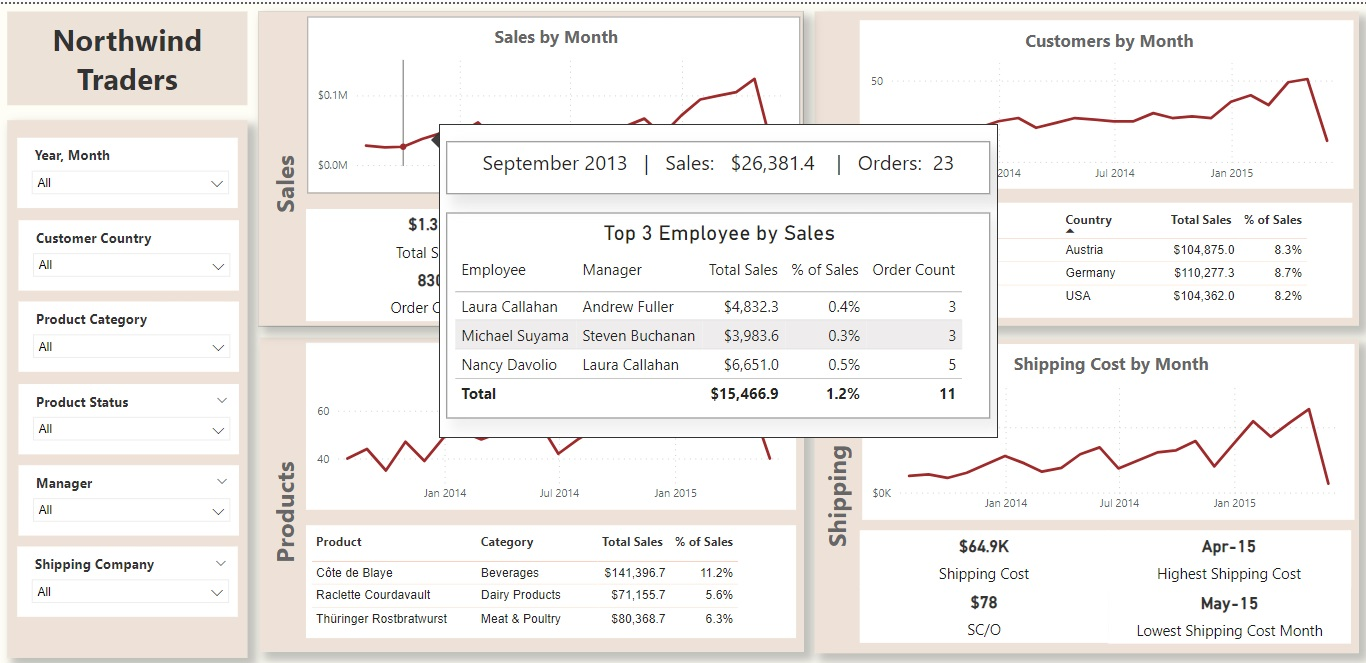

The dashboard page shown, as its layout file describes it:
{"tool":"powerbi","page":{"name":"Northwind Traders Dashboard","canvas":[1500,720],"ordinal":0},"visuals":[{"type":"group","id":"g1","title":"Group 1","box":[12.3,127,262.1,587],"z":0},{"type":"shape","box":[12.3,127,262.1,587],"z":0,"group":"g1"},{"type":"shape","box":[893.5,365.5,594.1,343.5],"z":0,"group":"g5"},{"type":"shape","box":[287.3,8.6,594.1,343.5],"z":1000,"group":"g4"},{"type":"shape","box":[893.6,8.6,594.1,343.5],"z":1000,"group":"g2"},{"type":"shape","box":[12.3,8.2,262.1,102.4],"z":2000},{"type":"lineChart","title":"Shipping Cost by Month","fields":{"Category":["Dates.MonthYear"],"Y":["MeasuresTable.Total Shipping Cost"]},"box":[946.1,370.4,537.9,191.9],"z":2000,"group":"g5"},{"type":"lineChart","title":"Sales by Month","fields":{"Y":["MeasuresTable.total_sales"],"Category":["Dates.MonthYear"]},"box":[339.9,14.7,537.9,191.9],"z":3000,"group":"g4"},{"type":"shape","box":[886.8,370.6,59.7,331.7],"z":3000,"group":"g5"},{"type":"shape","box":[888.7,58.7,57.3,293.5],"z":4000},{"type":"tableEx","fields":{"Values":["DimCustomers.Customer","DimCustomers.Country","MeasuresTable.Total Sales","MeasuresTable.% of Total Sales"]},"box":[946.1,217.1,535.1,125.6],"z":5000,"group":"g2"},{"type":"lineChart","title":"Customers by Month","fields":{"Category":["Dates.MonthYear"],"Y":["MeasuresTable.total_customers"]},"box":[943.3,17.8,539.2,184.3],"z":6000,"group":"g2"},{"type":"card","title":"Sales","fields":{"Values":["MeasuresTable.total_sales"]},"box":[338.6,223.9,270.3,61.4],"z":6000,"group":"g4"},{"type":"slicer","title":"Shipper Slicer","fields":{"Values":["FACT_orders.ShippersCompany"]},"box":[23.2,592.9,240.8,77],"z":6000,"group":"g1"},{"type":"shape","box":[288.1,364.1,594,342.8],"z":7000,"group":"g3"},{"type":"card","title":"Orders","fields":{"Values":["MeasuresTable.total_orders"]},"box":[338.6,284,273,62.8],"z":8000,"group":"g4"},{"type":"shape","box":[286,400.3,57.3,307.2],"z":8000,"group":"g3"},{"type":"slicer","title":"Status Slicer","fields":{"Values":["DimProducts.status"]},"box":[24.5,414.4,240.8,77],"z":8000,"group":"g1"},{"type":"shape","box":[293.5,46.5,42.3,300.3],"z":9000,"group":"g4"},{"type":"slicer","title":"Category Slicer","fields":{"Values":["Dimproducts.categoryName"]},"box":[24.5,325.2,240.8,77],"z":9000,"group":"g1"},{"type":"tableEx","fields":{"Values":["DimProducts.Product Name","DimProducts.Category","MeasuresTable.Total Sales","MeasuresTable.% of Total Sales"]},"box":[339.2,568.3,535.1,122.9],"z":9000,"group":"g3"},{"type":"card","title":"Highest sales Month","fields":{"Values":["MeasuresTable.Highest Sales Month"]},"box":[607.5,223.9,267.6,61.4],"z":10000,"group":"g4"},{"type":"lineChart","title":"Products by Month","fields":{"Category":["Dates.MonthYear"],"Y":["MeasuresTable.Total Produucts"]},"box":[338.6,370,535.4,182.1],"z":10000,"group":"g3"},{"type":"slicer","title":"Manager Slicer","fields":{"Values":["DimEmployees.Manager"]},"box":[24.5,503.7,240.8,77],"z":10000,"group":"g1"},{"type":"slicer","title":"Country Slicer","fields":{"Values":["DimCustomers.country"]},"box":[24.5,236,240.8,77],"z":11000,"group":"g1"},{"type":"card","title":"Lowest sales Month","fields":{"Values":["MeasuresTable.Lowest Sales Month"]},"box":[610.2,285.4,264.8,62.8],"z":11000,"group":"g4"},{"type":"card","title":"Shipping Cost","fields":{"Values":["MeasuresTable.Total Shipping Cost"]},"box":[943.3,574.7,271.7,62.8],"z":11000,"group":"g5"},{"type":"group","id":"g2","title":"Group 3","box":[893.6,8.6,594.1,343.5],"z":12000},{"type":"slicer","title":"Year Slicer","fields":{"Values":["Dates.Date Hierarchy.Year","Dates.Date Hierarchy.YearMonth"]},"box":[23.2,146.7,240.8,77],"z":12000,"group":"g1"},{"type":"card","title":"Shipping Cost/ Order","fields":{"Values":["MeasuresTable.SC/O"]},"box":[943.3,636.1,271.7,61.4],"z":12000,"group":"g5"},{"type":"group","id":"g3","title":"Group 2","box":[286,364.1,596.1,343.4],"z":12001},{"type":"group","id":"g4","title":"Group 4","box":[287.3,8.6,594.1,343.5],"z":12002},{"type":"card","title":"Highest Shipping Cost","fields":{"Values":["MeasuresTable.Highest Shipping Cost"]},"box":[1213.6,574.7,266.2,62.8],"z":13000,"group":"g5"},{"type":"card","title":"Lowest Shipping Cost","fields":{"Values":["MeasuresTable.Lowest Shipping Cost Month"]},"box":[1214.9,636.1,264.8,62.8],"z":14000,"group":"g5"},{"type":"group","id":"g5","title":"Group 5","box":[886.8,365.5,600.8,343.5],"z":14001}]}

Visuals, with their boxes in screenshot pixels (x1, y1, x2, y2), scaled from the page's 1500x720 canvas onto the 1366x663 screenshot:
"Group 1" group: locate(11, 117, 250, 657)
shape: locate(11, 117, 250, 657)
shape: locate(814, 337, 1355, 653)
shape: locate(262, 8, 803, 324)
shape: locate(814, 8, 1355, 324)
shape: locate(11, 8, 250, 102)
"Shipping Cost by Month" lineChart: locate(862, 341, 1351, 518)
"Sales by Month" lineChart: locate(310, 14, 799, 190)
shape: locate(808, 341, 862, 647)
shape: locate(809, 54, 861, 324)
tableEx - DimCustomers.Customer x DimCustomers.Country: locate(862, 200, 1349, 316)
"Customers by Month" lineChart: locate(859, 16, 1350, 186)
"Sales" card: locate(308, 206, 555, 263)
"Shipper Slicer" slicer: locate(21, 546, 240, 617)
shape: locate(262, 335, 803, 651)
"Orders" card: locate(308, 262, 557, 319)
shape: locate(260, 369, 313, 651)
"Status Slicer" slicer: locate(22, 382, 242, 452)
shape: locate(267, 43, 306, 319)
"Category Slicer" slicer: locate(22, 299, 242, 370)
tableEx - DimProducts.Product Name x DimProducts.Category: locate(309, 523, 796, 636)
"Highest sales Month" card: locate(553, 206, 797, 263)
"Products by Month" lineChart: locate(308, 341, 796, 508)
"Manager Slicer" slicer: locate(22, 464, 242, 535)
"Country Slicer" slicer: locate(22, 217, 242, 288)
"Lowest sales Month" card: locate(556, 263, 797, 321)
"Shipping Cost" card: locate(859, 529, 1106, 587)
"Group 3" group: locate(814, 8, 1355, 324)
"Year Slicer" slicer: locate(21, 135, 240, 206)
"Shipping Cost/ Order" card: locate(859, 586, 1106, 642)
"Group 2" group: locate(260, 335, 803, 651)
"Group 4" group: locate(262, 8, 803, 324)
"Highest Shipping Cost" card: locate(1105, 529, 1348, 587)
"Lowest Shipping Cost" card: locate(1106, 586, 1348, 644)
"Group 5" group: locate(808, 337, 1355, 653)
